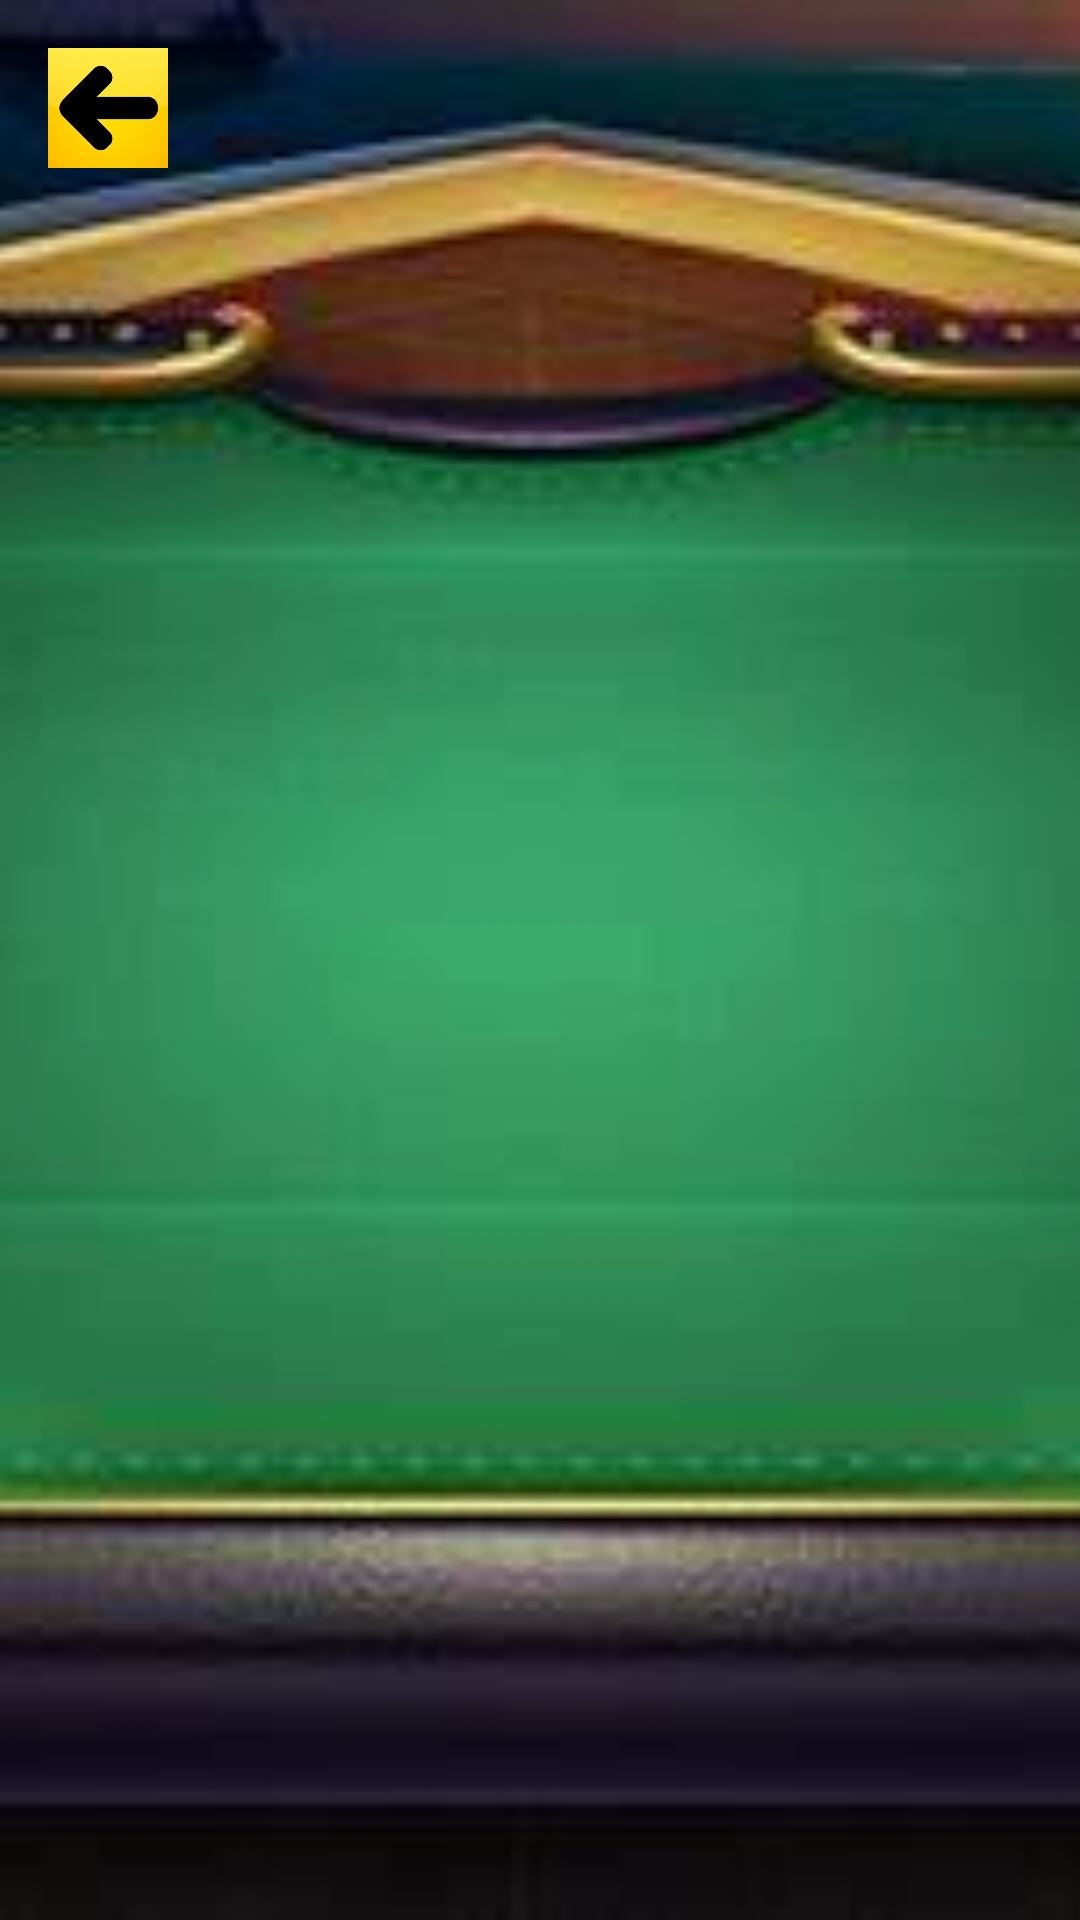

Named icons in this screenshot (1080 x 1920) and their bounding boxes, (x1, y1, x2, y2):
返回: (48, 48, 168, 168)
